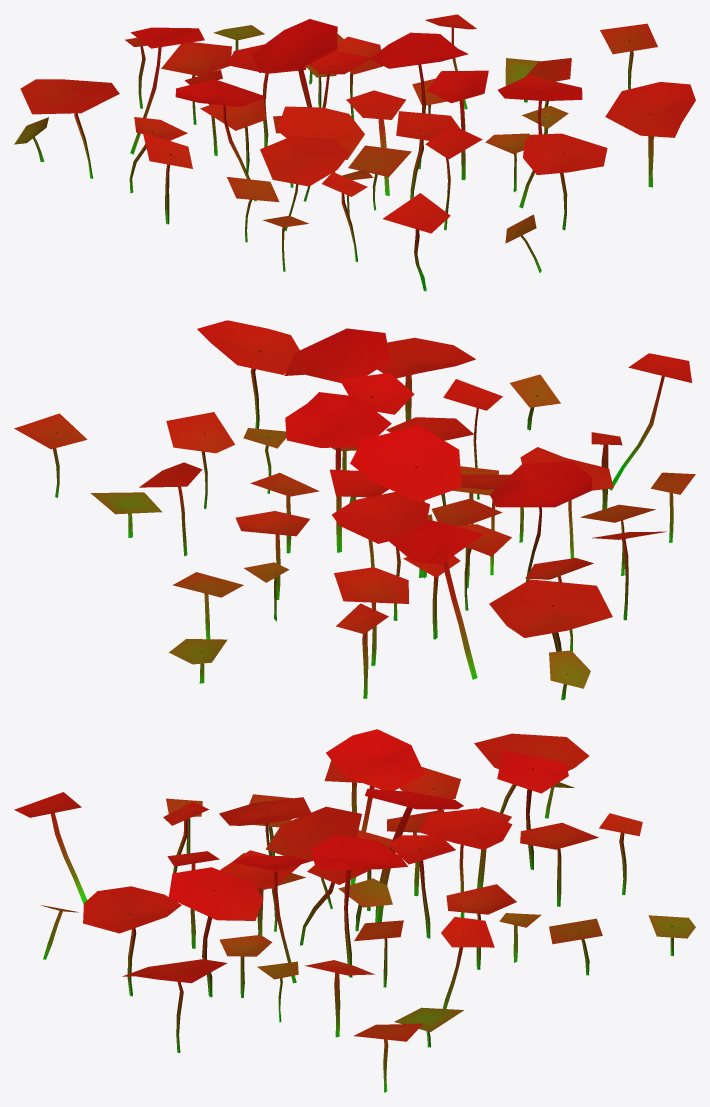
Rendered from Violet Wood Sorrel_LOD0_Var4_uchkajuia.fbx.
3 views of the same model, one above another, from view 1: azimuth 30°, elevation 25°; view 2: azimuth 150°, elevation 25°; view 3: azimuth 270°, elevation 25° (orthographic). The views are drawn at different scales.
Parts seen in each view (by area): view 1: _9dcc_Var4_LOD0; view 2: _9dcc_Var4_LOD0; view 3: _9dcc_Var4_LOD0.
Part boxes in pixels (x1,y1,x2,y2): _9dcc_Var4_LOD0: (14, 14, 695, 291); _9dcc_Var4_LOD0: (14, 320, 695, 699); _9dcc_Var4_LOD0: (14, 729, 695, 1092).
Bounding box in the file's own units: 51.31 × 12.06 × 49.97.
